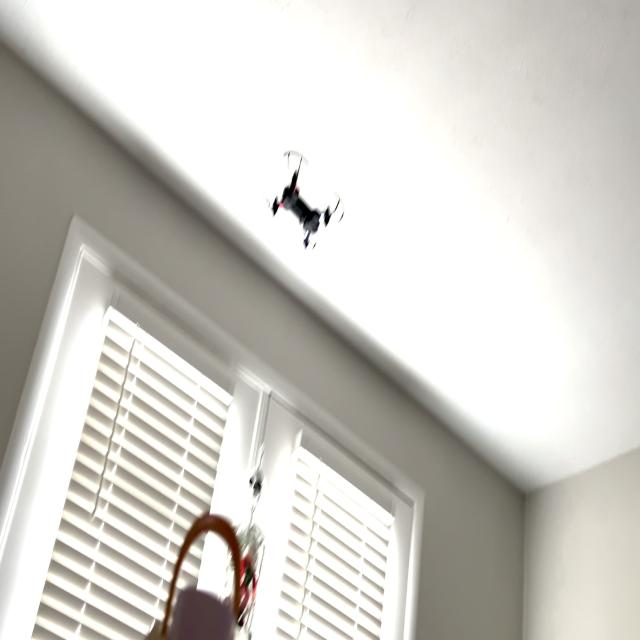drone: (246, 132, 354, 277)
